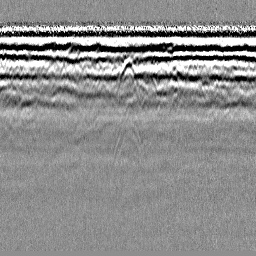cavity: (118, 56, 140, 88)
